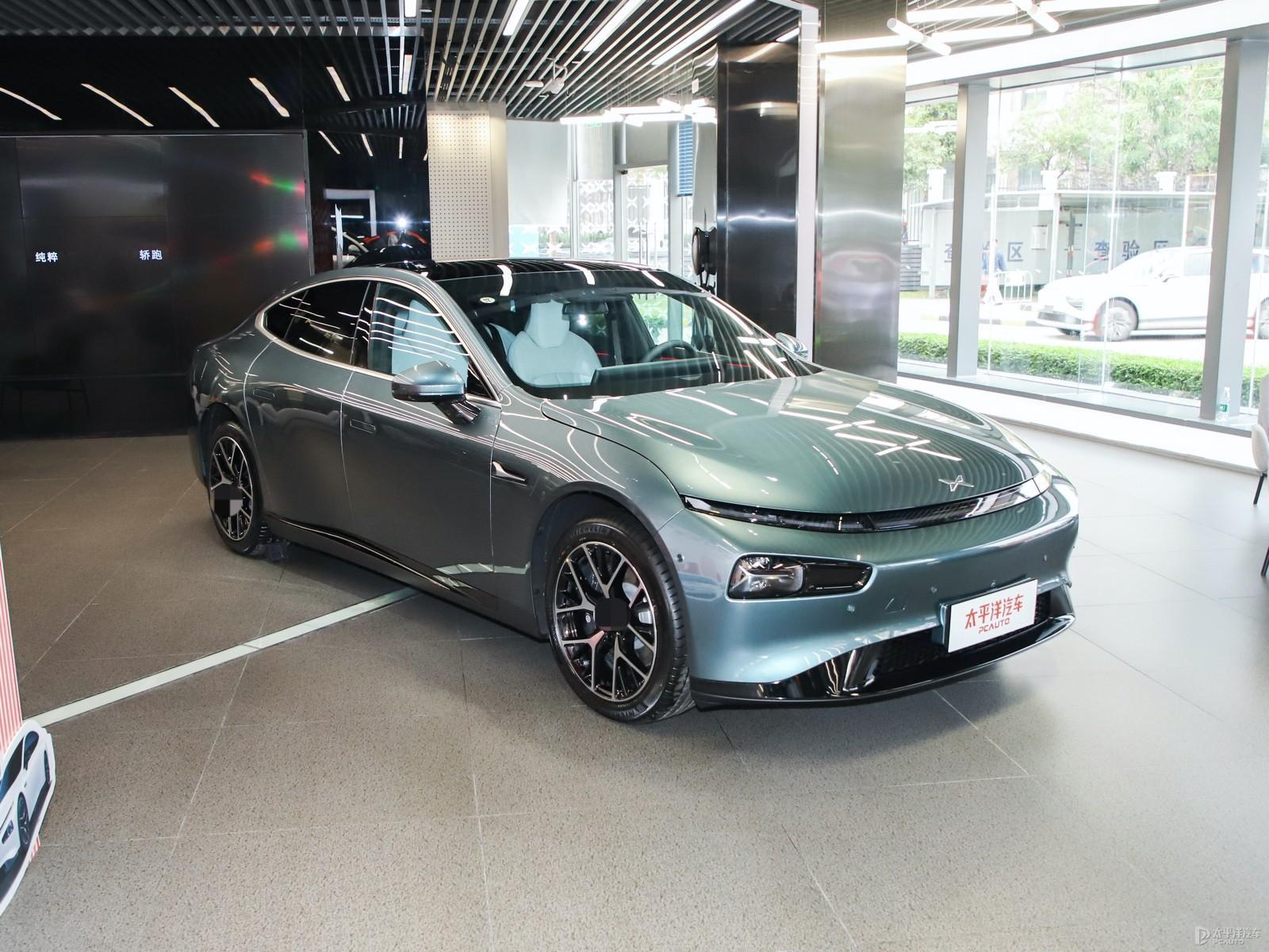XPeng Motors: (937, 474, 975, 492)
